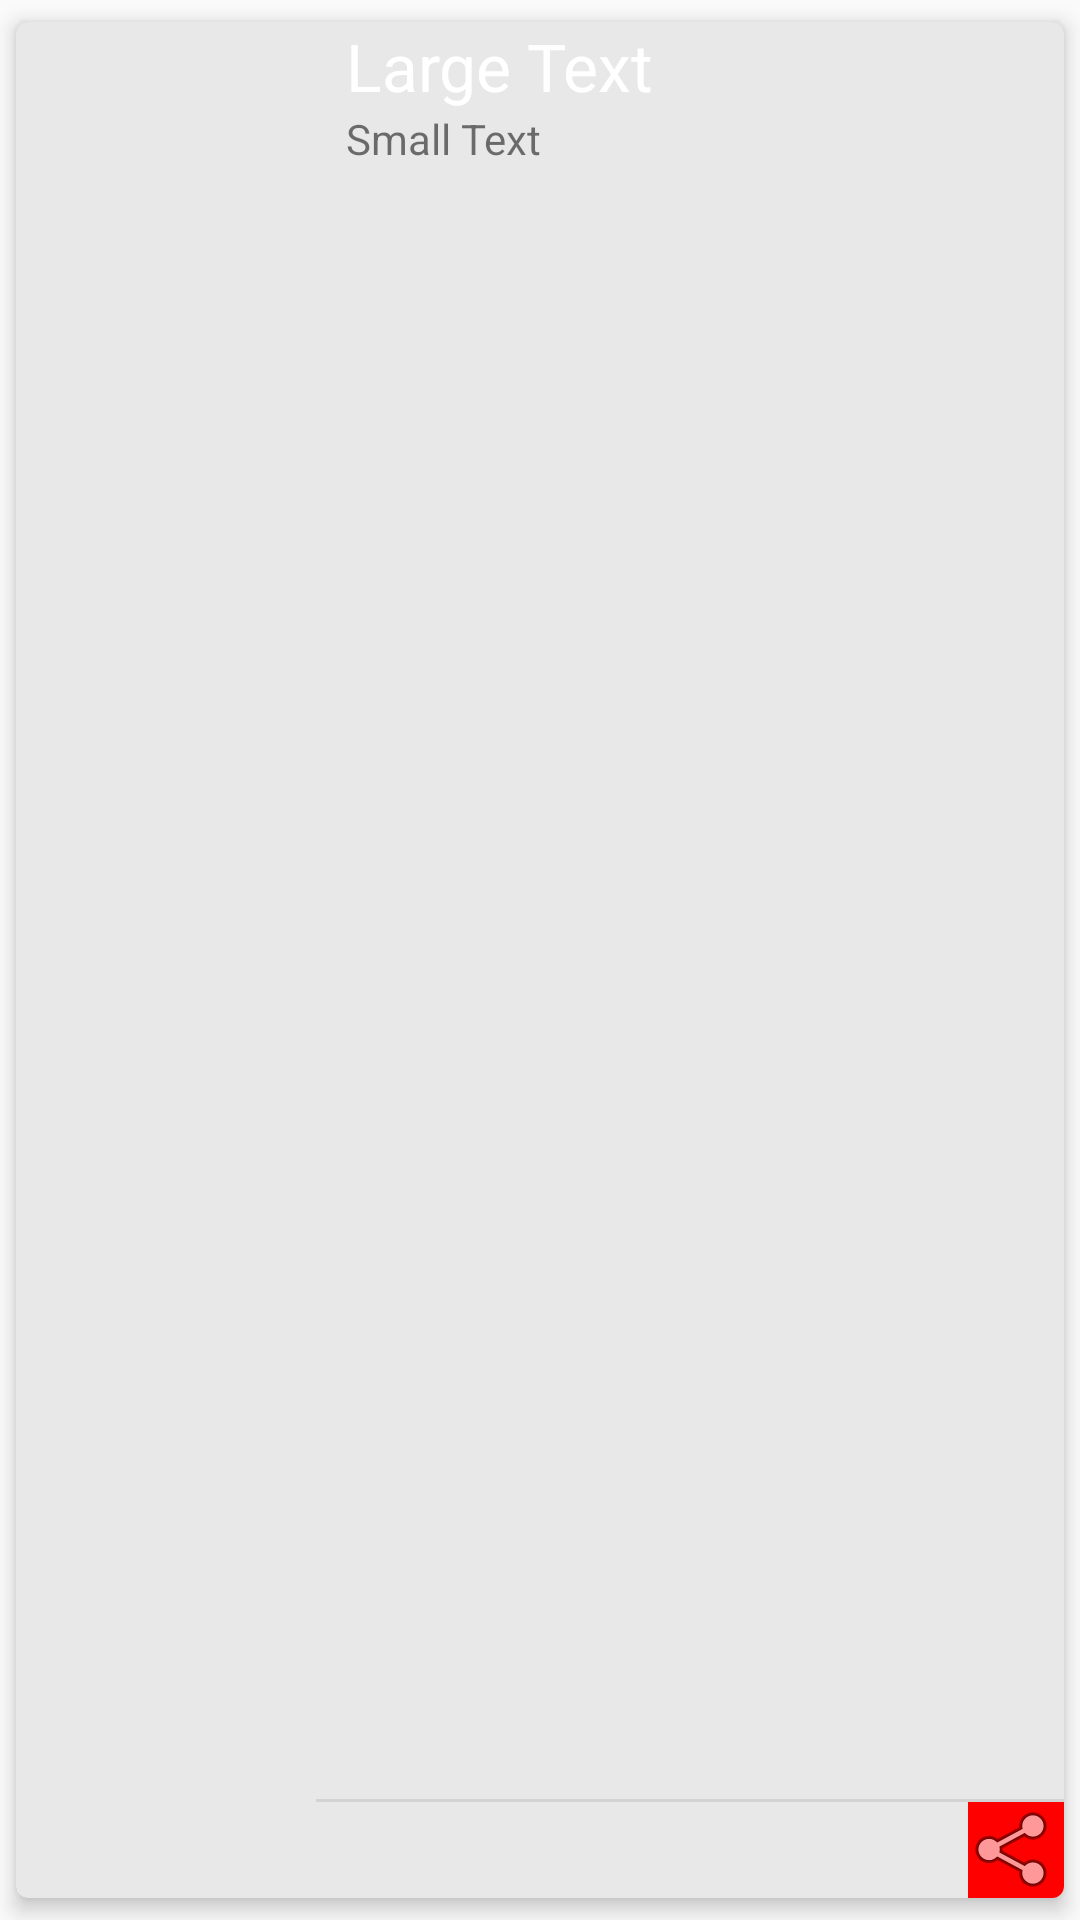

Named icons in this screenshot (1080w x 1920h) and their centers, [x,y]:
share: [1016,1850]
